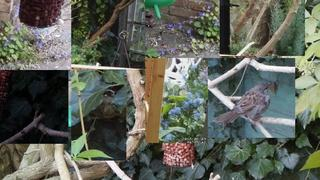dunnock: (213, 82, 271, 126)
